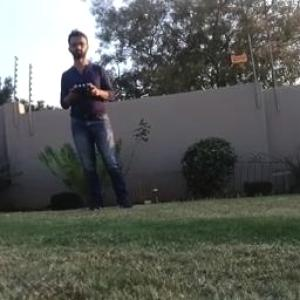follow: (58, 20, 140, 213)
